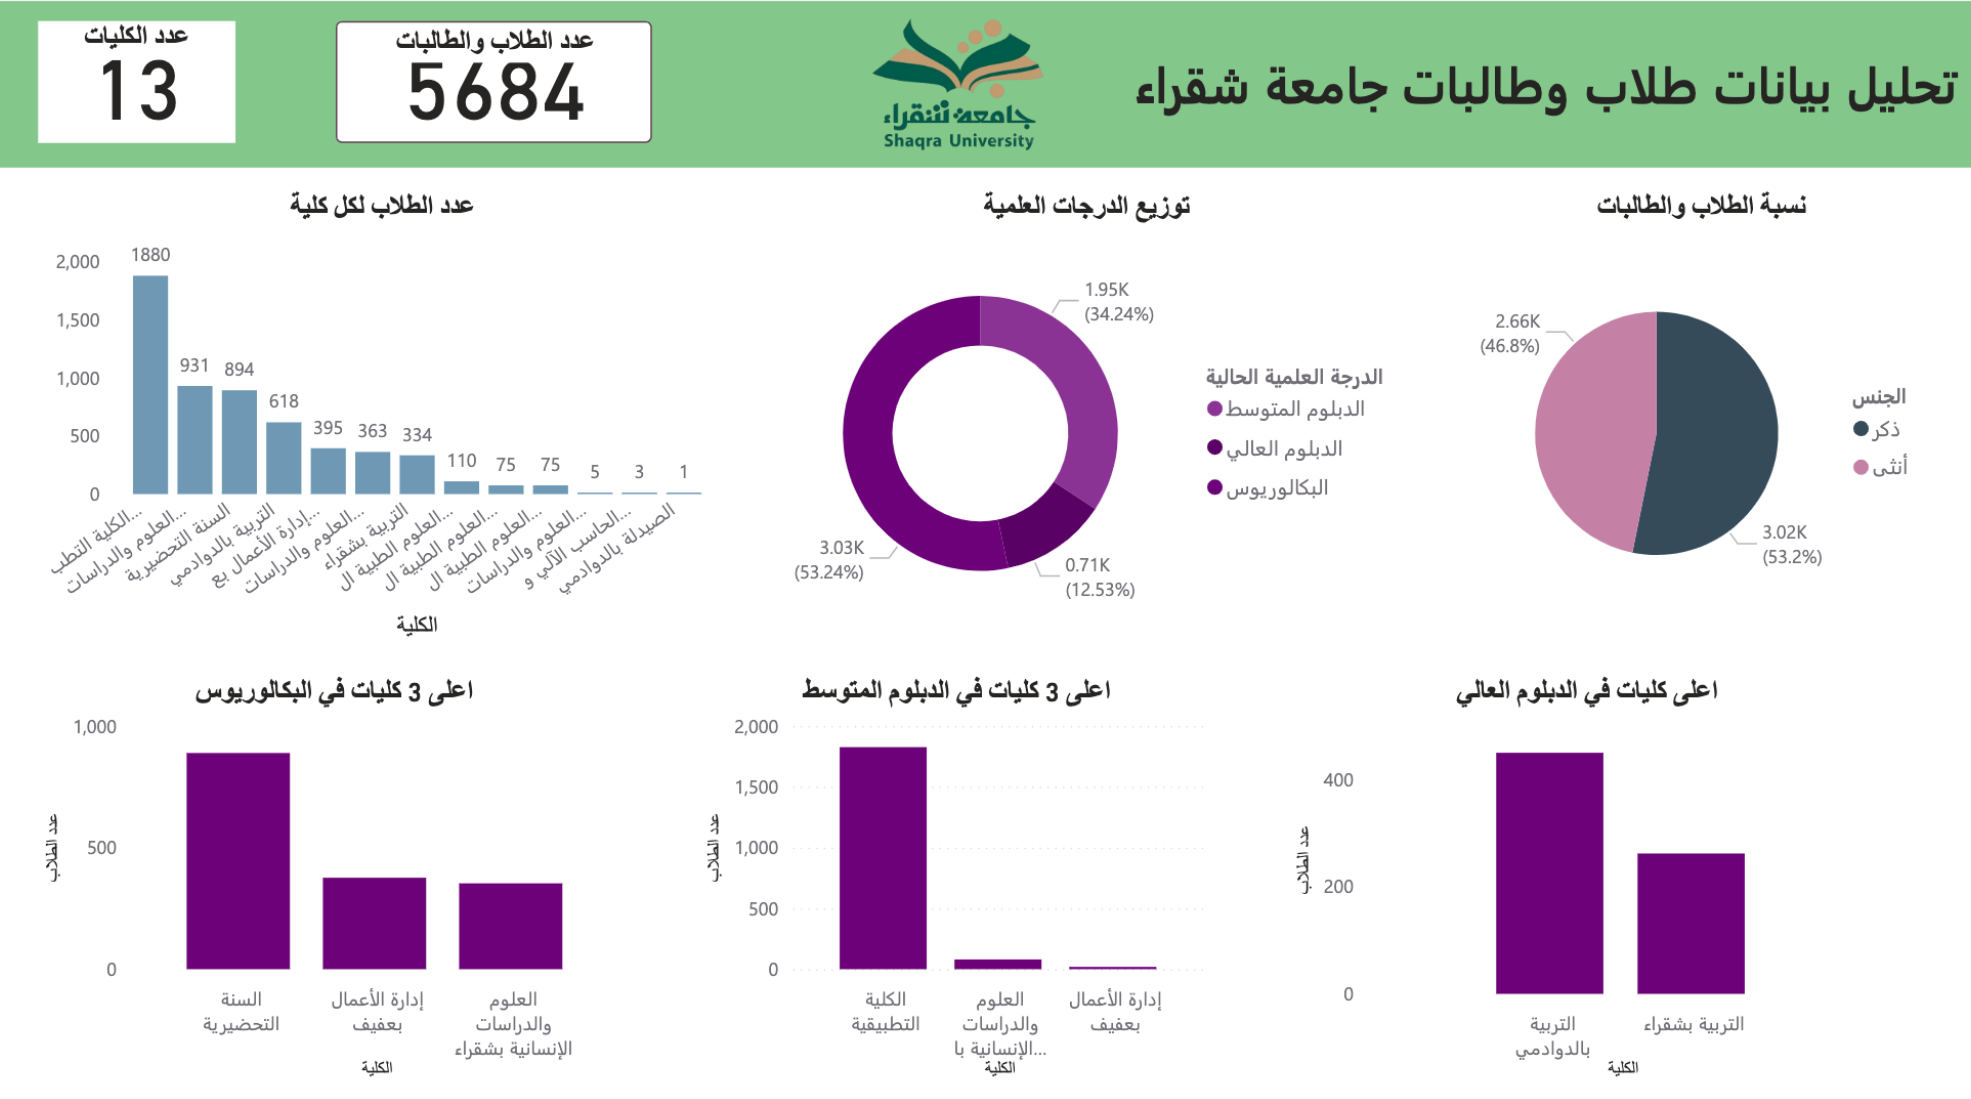

Layout of this report page (visuals, bound fields, positions):
{"tool":"powerbi","page":{"name":"Page 1","canvas":[1280,720],"ordinal":0},"visuals":[{"type":"shape","box":[0,0,1280,108],"z":0},{"type":"pieChart","title":"توزيع الدرجات العلمية","fields":{"Category":["الجدول1.الدرجة العلمية الحالية"],"Y":["CountNonNull(الجدول1.الدرجة العلمية الحالية)"]},"box":[485.8,123.1,440.4,296.3],"z":1000},{"type":"pieChart","title":"نسبة الطلاب والطالبات","fields":{"Category":["الجدول1.الجنس"],"Y":["CountNonNull(الجدول1.الجنس)"]},"box":[944,123.1,320.6,296.3],"z":2000},{"type":"columnChart","title":"عدد الطلاب لكل كلية","fields":{"Category":["الجدول1.الكلية "],"Y":["CountNonNull(الجدول1.الجنس)"]},"box":[25.9,123.1,446.9,296.3],"z":3000},{"type":"clusteredColumnChart","title":"اعلى كليات في الدبلوم العالي","fields":{"Category":["الجدول1.الكلية "],"Y":["CountNonNull(الجدول1.الجنس)"]},"box":[837.1,437.2,387,267.2],"z":4000},{"type":"clusteredColumnChart","title":"اعلى 3 كليات في البكالوريوس","fields":{"Category":["الجدول1.الكلية "],"Y":["CountNonNull(الجدول1.الجنس)"]},"box":[25.9,437.2,383.8,267.2],"z":5000},{"type":"clusteredColumnChart","title":"اعلى 3 كليات في الدبلوم المتوسط","fields":{"Category":["الجدول1.الكلية "],"Y":["CountNonNull(الجدول1.الجنس)"]},"box":[455,437.2,333.6,267.2],"z":6000},{"type":"card","title":"عدد الطلاب والطالبات","fields":{"Values":["CountNonNull(الجدول1.الجنس)"]},"box":[218.6,13,205.6,79.3],"z":7000},{"type":"image","box":[532.7,0,178.1,108.5],"z":8000},{"type":"card","title":"عدد الكليات","fields":{"Values":["Count(الجدول1.الكلية )"]},"box":[25.9,13,127.9,79.3],"z":9000},{"type":"textbox","box":[728,26,552,54],"z":10000}]}

Visuals, with their boxes in screenshot pixels (x1, y1, x2, y2), scaled from the page's 1280x720 canvas onto the 1971x1099 screenshot:
shape: bbox=[0, 0, 1970, 165]
"توزيع الدرجات العلمية" pieChart: bbox=[748, 188, 1426, 640]
"نسبة الطلاب والطالبات" pieChart: bbox=[1454, 188, 1947, 640]
"عدد الطلاب لكل كلية" columnChart: bbox=[40, 188, 728, 640]
"اعلى كليات في الدبلوم العالي" clusteredColumnChart: bbox=[1289, 667, 1885, 1075]
"اعلى 3 كليات في البكالوريوس" clusteredColumnChart: bbox=[40, 667, 631, 1075]
"اعلى 3 كليات في الدبلوم المتوسط" clusteredColumnChart: bbox=[701, 667, 1214, 1075]
"عدد الطلاب والطالبات" card: bbox=[337, 20, 653, 141]
image: bbox=[820, 0, 1095, 166]
"عدد الكليات" card: bbox=[40, 20, 237, 141]
textbox: bbox=[1121, 40, 1970, 122]
